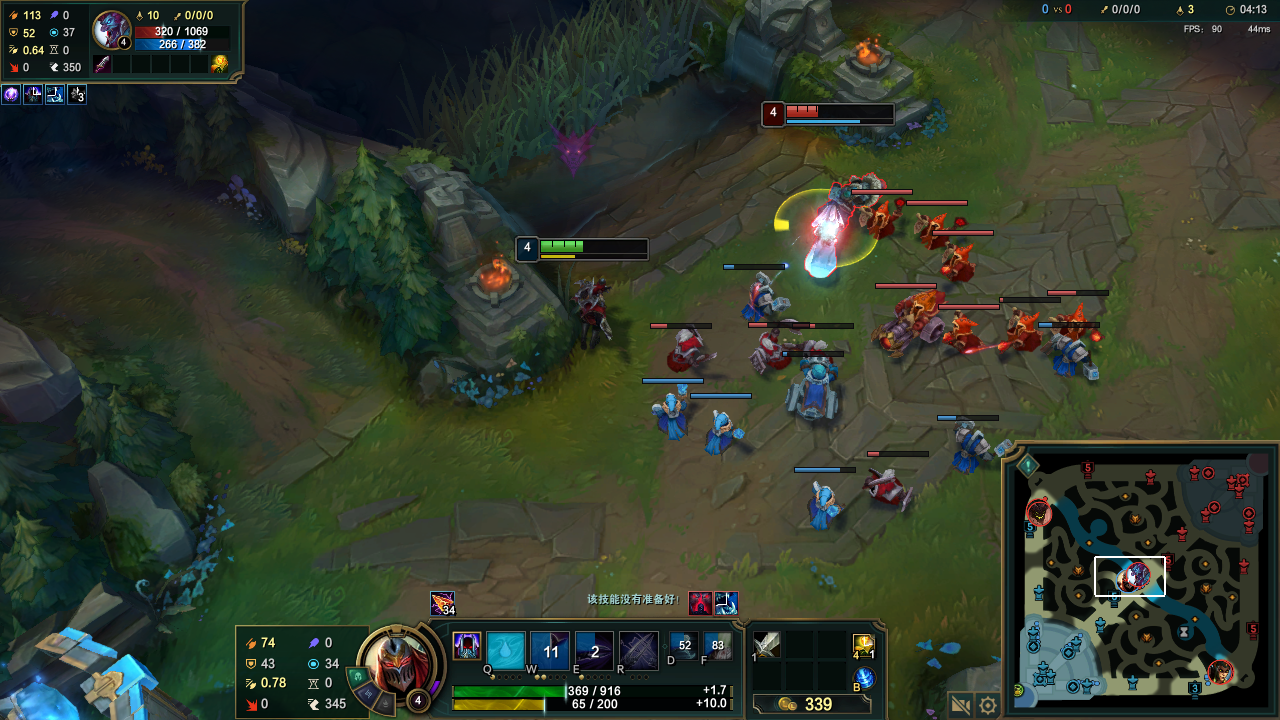DFYX: (783, 103, 899, 125)
WFXB: (781, 357, 861, 434)
